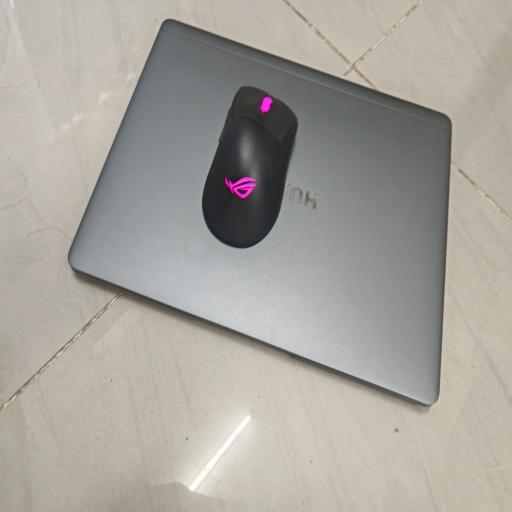laptop: (69, 20, 451, 404)
mouse: (202, 86, 298, 248)
